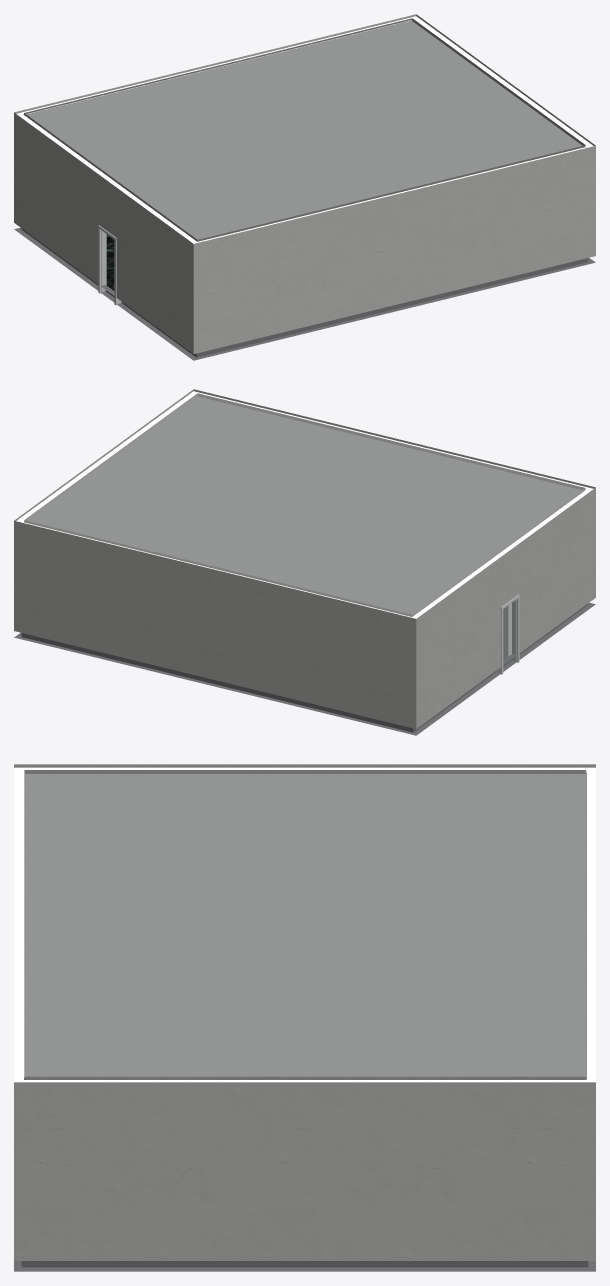
Rendered from simple_room_modificado.glb.
3 renders of one model, top to bottom at view 1: azimuth 30°, elevation 25°; view 2: azimuth 150°, elevation 25°; view 3: azimuth 270°, elevation 25°, orthographic. The views are drawn at different scales.
Parts seen in each view (by area): view 1: floor, ceilling, gray, light, DoorFrame.001, bottom; view 2: floor, ceilling, gray, light, DoorFrame.001, Door.001; view 3: ceilling, floor, light, gray.
Part boxes in pixels (box(x1,y1,x2,y2)): floor: box(14, 14, 595, 353); ceilling: box(27, 20, 582, 239); gray: box(14, 227, 595, 360); light: box(16, 16, 593, 243); DoorFrame.001: box(98, 225, 121, 305); bottom: box(106, 234, 114, 290); floor: box(14, 389, 595, 728); ceilling: box(27, 396, 581, 614); gray: box(14, 602, 595, 735); light: box(16, 391, 593, 618); DoorFrame.001: box(496, 594, 519, 674); Door.001: box(503, 603, 511, 660); ceilling: box(25, 774, 585, 1076); floor: box(14, 764, 595, 1260); light: box(14, 767, 595, 1082); gray: box(14, 1261, 595, 1271).
Size of the model in its own units: 33.02 by 9.23 by 25.5.
Materials: 6 (2 with a texture image).
